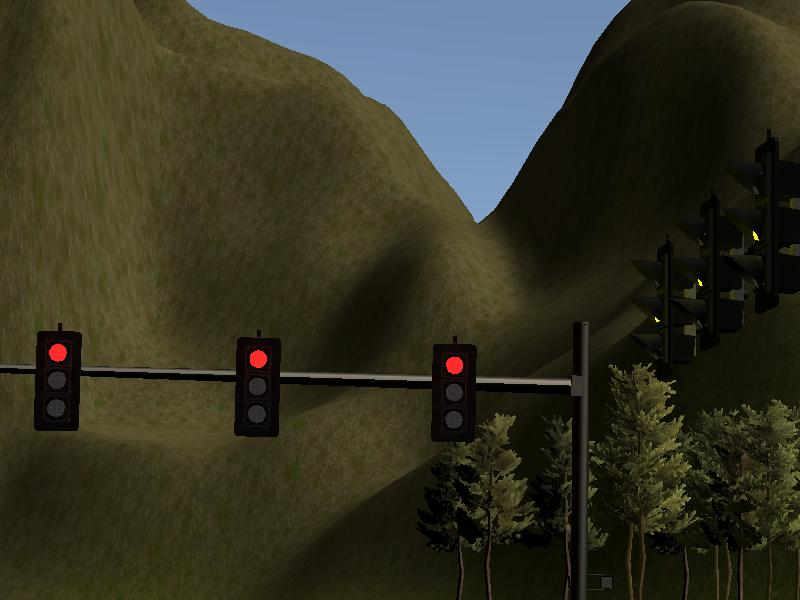red: (432, 344, 476, 444), (236, 335, 279, 435), (36, 329, 78, 429)
